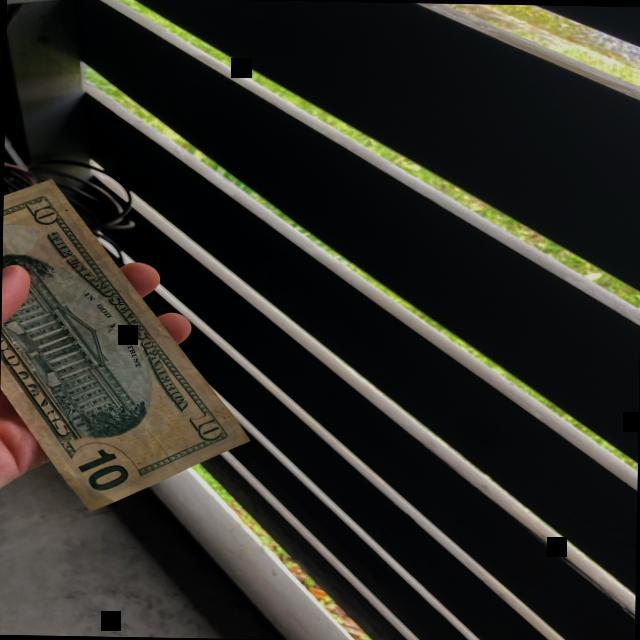ten: (0, 176, 251, 514)
